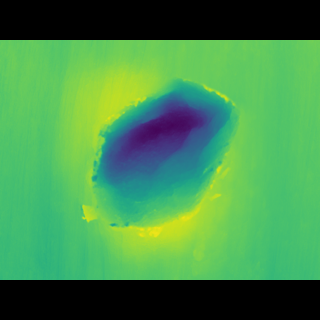Loch: (80, 89, 245, 239)
